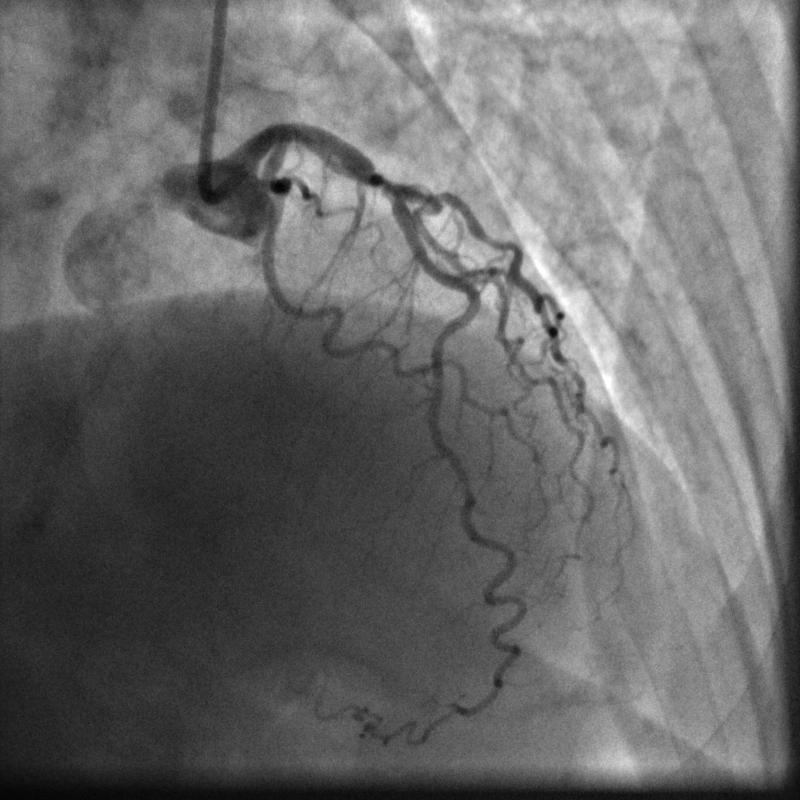Stenosis: (375, 168, 392, 196)
